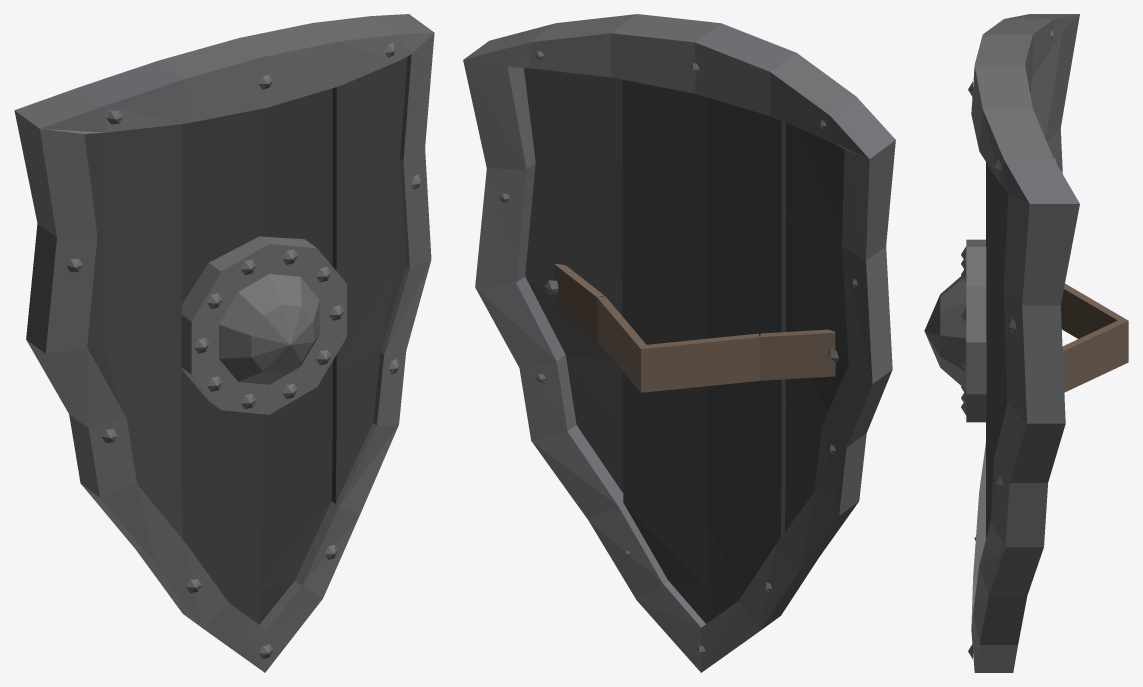
Rendered from heater-shield-c51b76.glb.
3 renders of one model, left to right at view 1: azimuth 30°, elevation 25°; view 2: azimuth 150°, elevation 25°; view 3: azimuth 270°, elevation 25°, orthographic. The views are drawn at different scales.
Parts seen in each view (by area): view 1: shield; view 2: shield, strap-band; view 3: shield, strap-band.
Boxes of the visible parts, x1,y1,x2,y2 form: shield: (14, 14, 434, 672); shield: (463, 14, 895, 672); strap-band: (544, 263, 839, 392); shield: (924, 14, 1079, 672); strap-band: (1060, 283, 1128, 392).
Bounding box in the file's own units: 0.536 × 0.8 × 0.2436.
